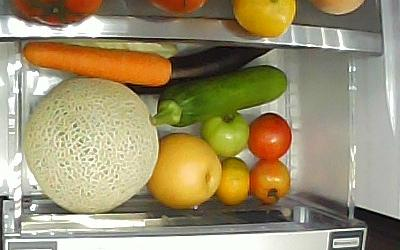carrot: (23, 43, 171, 87)
eggplant: (124, 47, 273, 93)
melon: (24, 77, 159, 214)
pear: (148, 133, 222, 210)
prune: (249, 112, 293, 161)
tangerine: (218, 158, 250, 206)
tomato: (202, 112, 249, 158), (250, 158, 292, 207)
zucchini: (151, 65, 288, 127)
